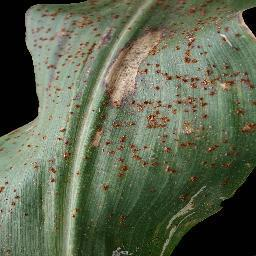Corn_Common_Rust: (17, 1, 256, 185), (174, 185, 244, 219), (0, 129, 17, 252), (155, 220, 193, 256), (106, 246, 143, 256), (108, 210, 128, 227), (22, 206, 36, 218), (70, 205, 82, 218), (102, 183, 110, 191)
